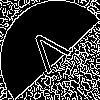V: (25, 25, 78, 82)
